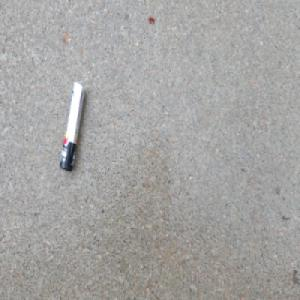Battery: (59, 78, 88, 172)
